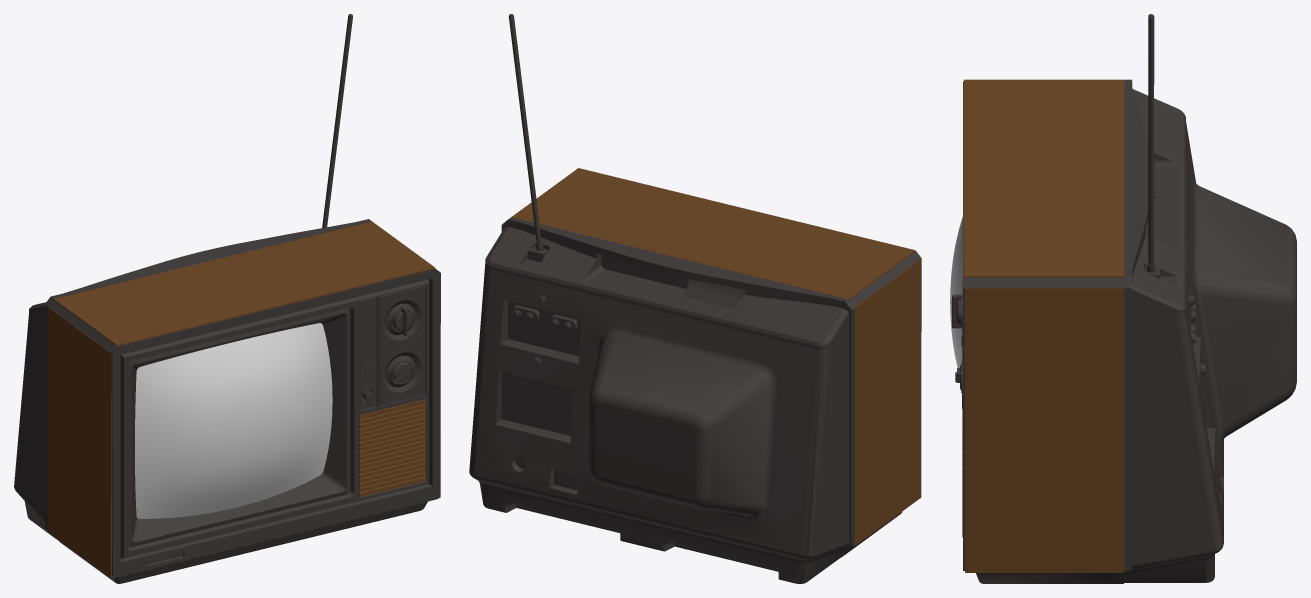
3 views of the same model, side by side, from view 1: azimuth 30°, elevation 25°; view 2: azimuth 150°, elevation 25°; view 3: azimuth 270°, elevation 25° (orthographic). The views are drawn at different scales.
Visible parts, largest first — view 1: TV, TV.001; view 2: TV; view 3: TV, TV.001.
Part boxes in pixels (box(x1,y1,x2,y2)): TV: box(14, 14, 440, 583); TV.001: box(135, 323, 332, 518); TV: box(469, 14, 921, 583); TV: box(952, 14, 1296, 583); TV.001: box(950, 216, 962, 367).
Size of the model in its own units: 0.7386 by 0.9572 by 0.5307.
